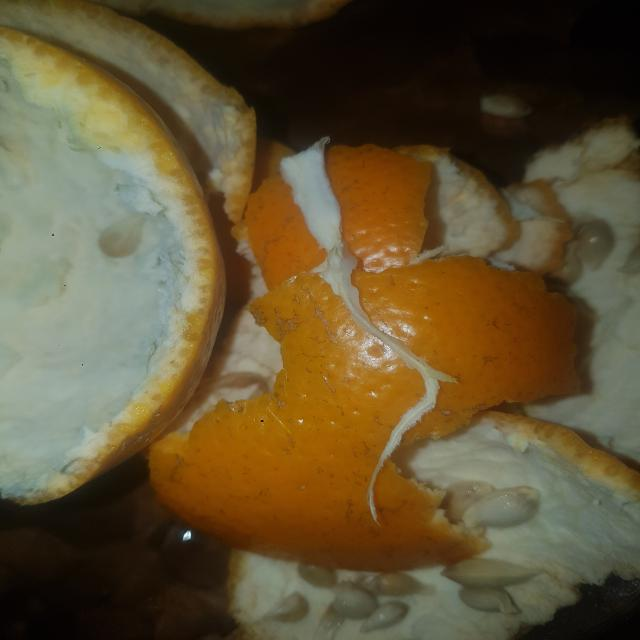paper: (226, 127, 588, 574)
